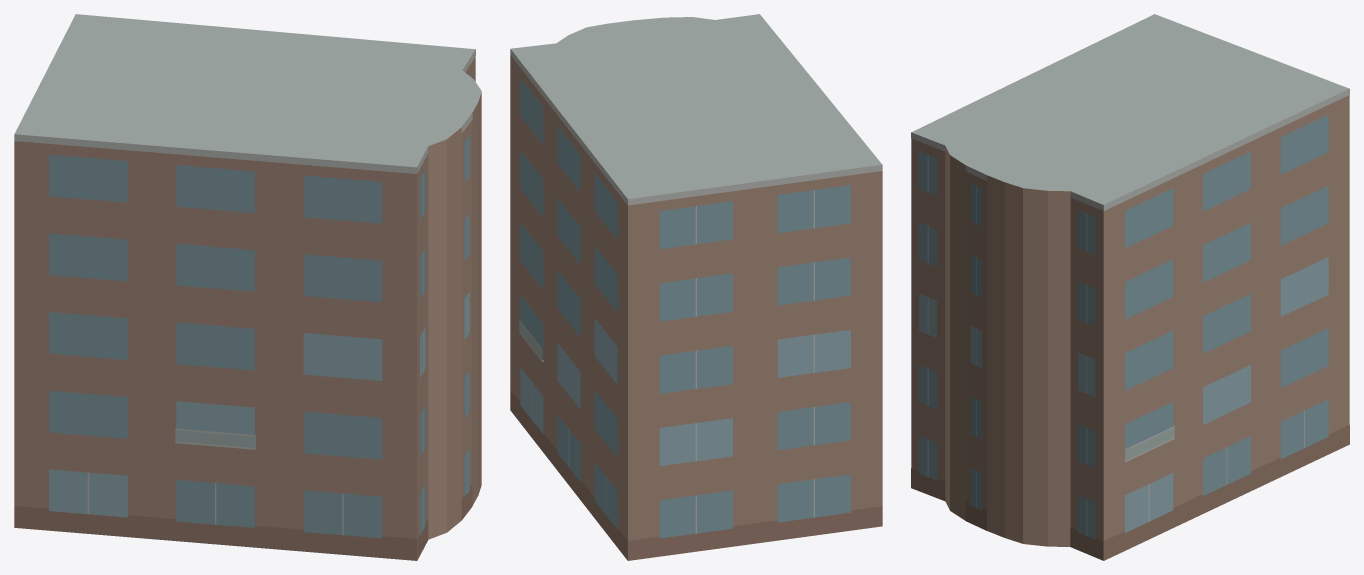
Rendered from survey-upis-32884724.glb.
3 renders of one model, left to right at view 1: azimuth 30°, elevation 25°; view 2: azimuth 150°, elevation 25°; view 3: azimuth 270°, elevation 25°, orthographic. The views are drawn at different scales.
Parts seen in each view (by area): view 1: survey-upis-32884724.tmp; view 2: survey-upis-32884724.tmp; view 3: survey-upis-32884724.tmp.
Boxes of the visible parts, x1,y1,x2,y2 form: survey-upis-32884724.tmp: [14, 14, 481, 560]; survey-upis-32884724.tmp: [510, 14, 882, 560]; survey-upis-32884724.tmp: [911, 14, 1349, 560].
Size of the model in its own units: 16.37 by 14.2 by 15.87.
